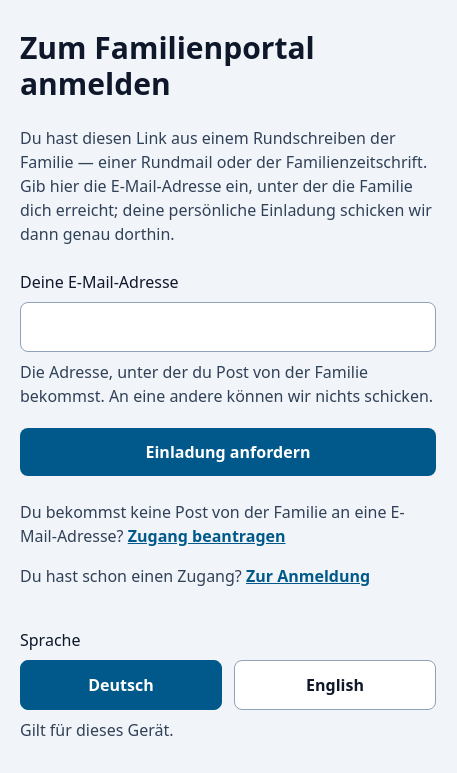
answering the letter that went to a mailing list › asks for an address before it sends anything
What coordinates should you click on to do the following:
click the button "Einladung anfordern"
I would click on:
 (228, 452)
Its box is [20,428,436,476].
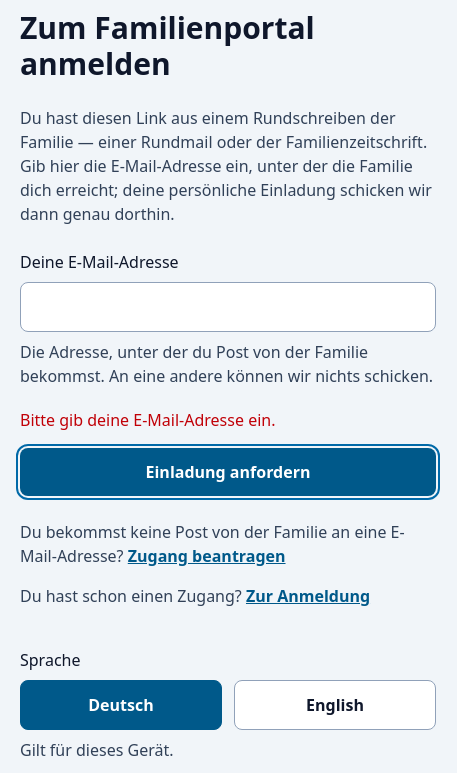
Now the message "Bitte gib deine E-Mail-Adresse ein." is shown, box [20,409,276,431]
